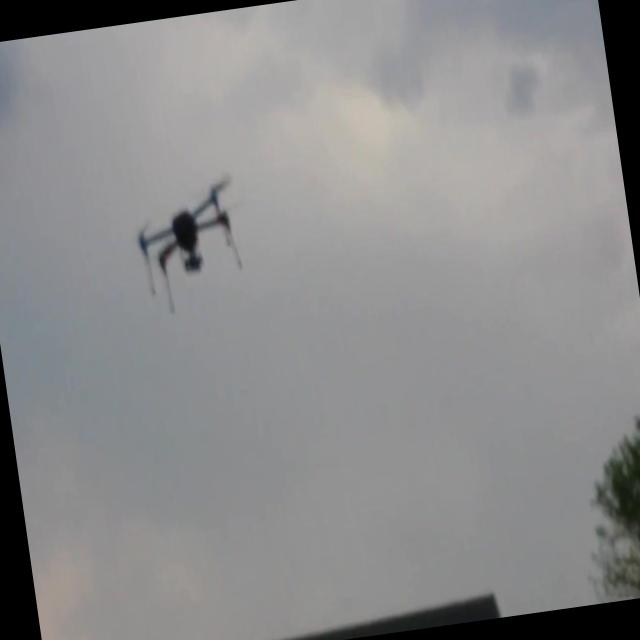drone: (125, 167, 254, 316)
